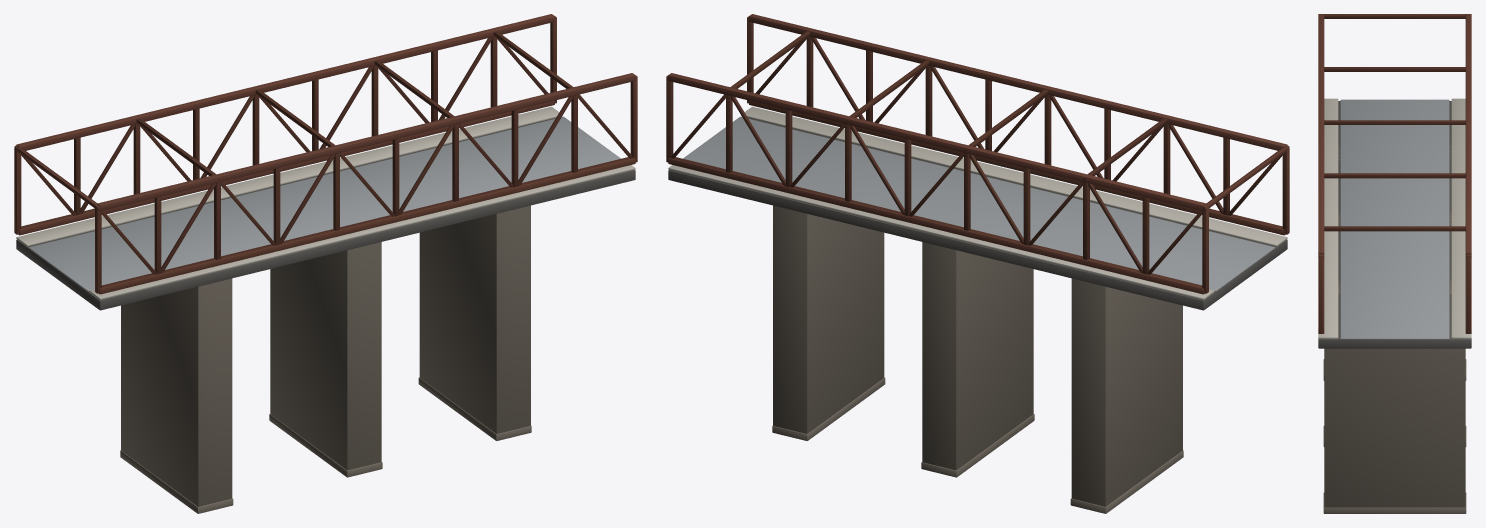
The model's file is br-longbien.glb.
The picture shows the model from 3 angles, left to right: view 1: azimuth 30°, elevation 25°; view 2: azimuth 150°, elevation 25°; view 3: azimuth 270°, elevation 25°; orthographic projection. The views are drawn at different scales.
Bounding box in the file's own units: 28.24 × 16.75 × 7.6.
